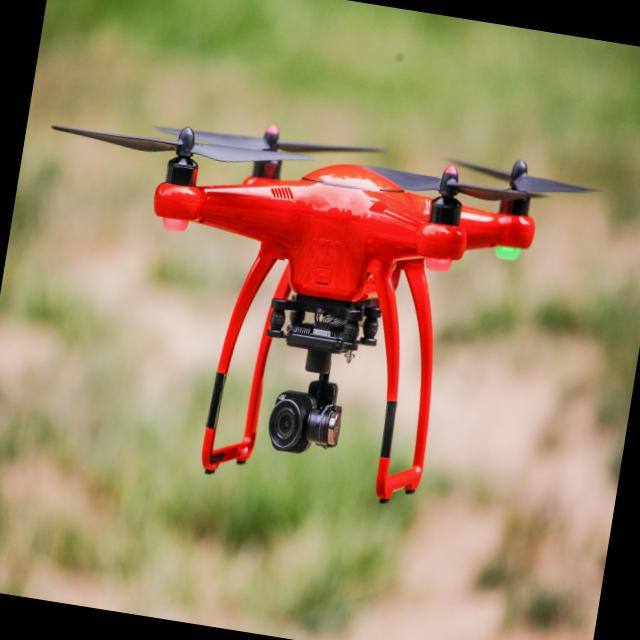drone: (0, 82, 606, 532)
